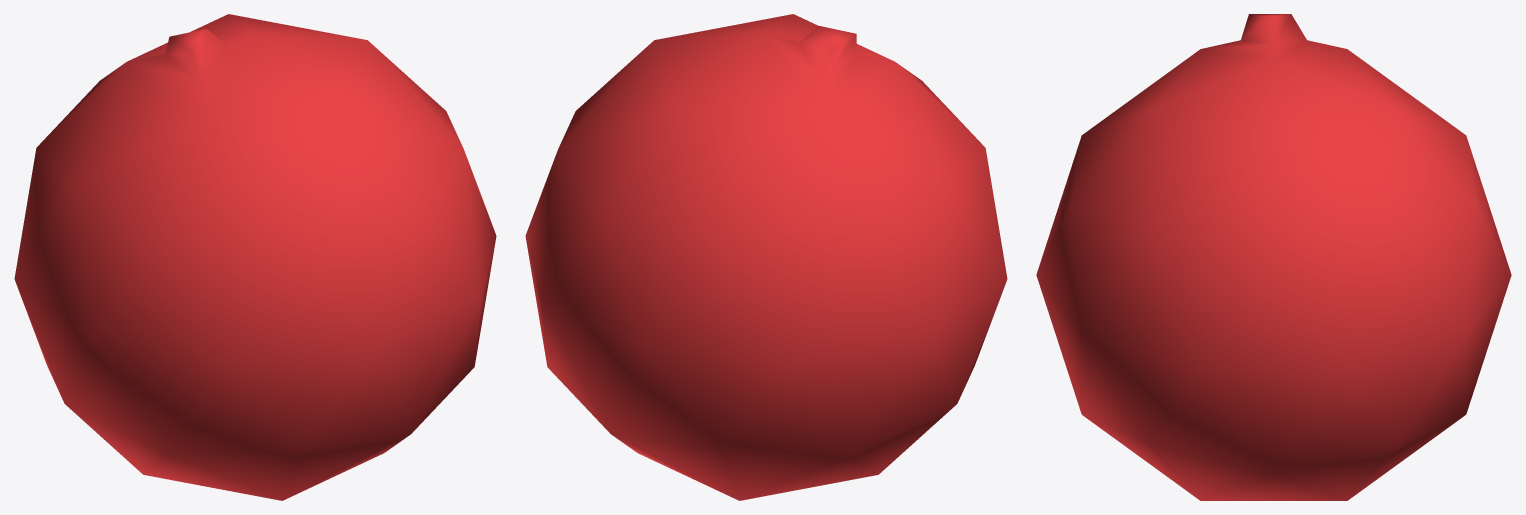
File: globo.fbx
The picture shows the model from 3 angles, left to right: view 1: azimuth 30°, elevation 25°; view 2: azimuth 150°, elevation 25°; view 3: azimuth 270°, elevation 25°; orthographic projection. The views are drawn at different scales.
Visible parts, largest first — view 1: Icosphere; view 2: Icosphere; view 3: Icosphere.
Boxes of the visible parts, bbox=[...] form: Icosphere: bbox=[14, 14, 496, 500]; Icosphere: bbox=[525, 14, 1007, 500]; Icosphere: bbox=[1036, 14, 1511, 500].
Bounding box in the file's own units: 104 × 114 × 109.
